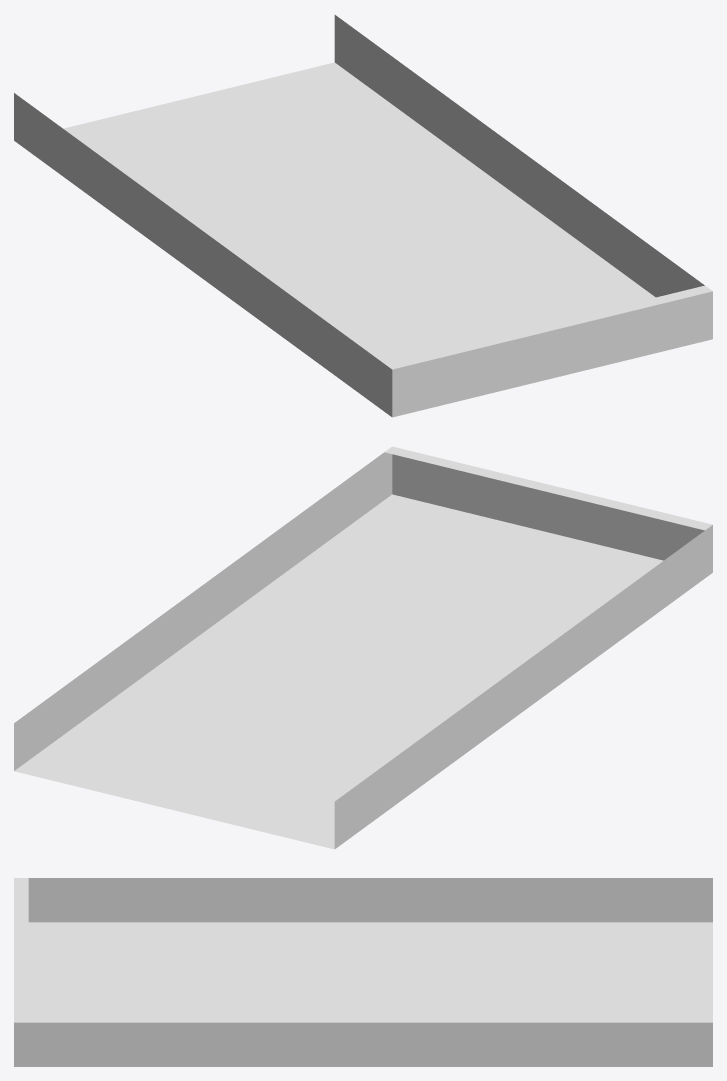
Rendered from M_WallTrim350x700White100-1.FBX.
3 views of the same model, one above another, from view 1: azimuth 30°, elevation 25°; view 2: azimuth 150°, elevation 25°; view 3: azimuth 270°, elevation 25° (orthographic). The views are drawn at different scales.
Parts seen in each view (by area): view 1: M_WallTrim350x700White100-1; view 2: M_WallTrim350x700White100-1; view 3: M_WallTrim350x700White100-1.
Boxes of the visible parts, bbox=[...] form: M_WallTrim350x700White100-1: bbox=[14, 15, 712, 417]; M_WallTrim350x700White100-1: bbox=[14, 446, 712, 849]; M_WallTrim350x700White100-1: bbox=[14, 878, 712, 1066].
Size of the model in its own units: 3.5 by 0.5 by 7.15.
